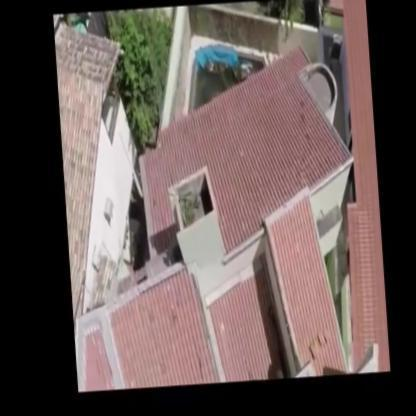agua: (198, 67, 246, 86)
